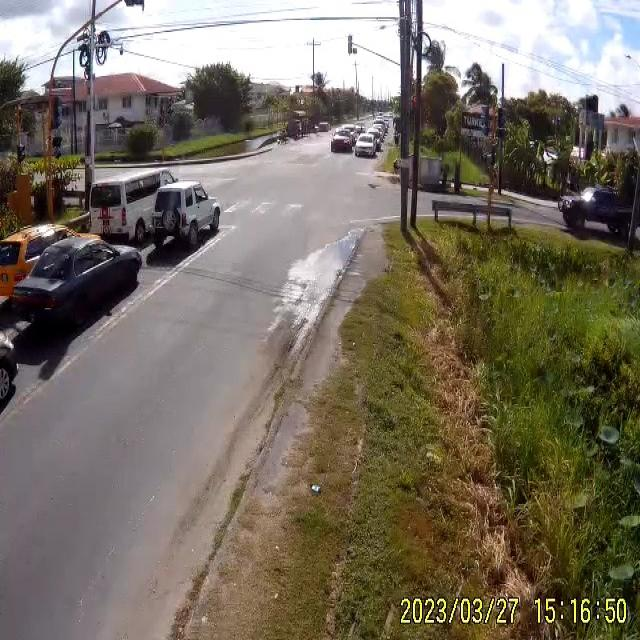car: (3, 234, 142, 340), (0, 222, 82, 302), (151, 178, 224, 253), (559, 186, 635, 241), (355, 132, 379, 156), (331, 132, 355, 155)
